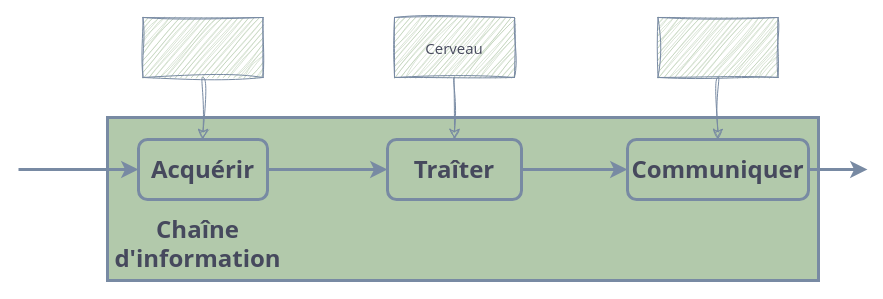
Image size: 883x299. Some labels were removed from this diagram. Each missing label, with the centre of its shape:
"Nerf moteur" belongs at [717,47].
"Œil + nerf optique" belongs at [202,47].
